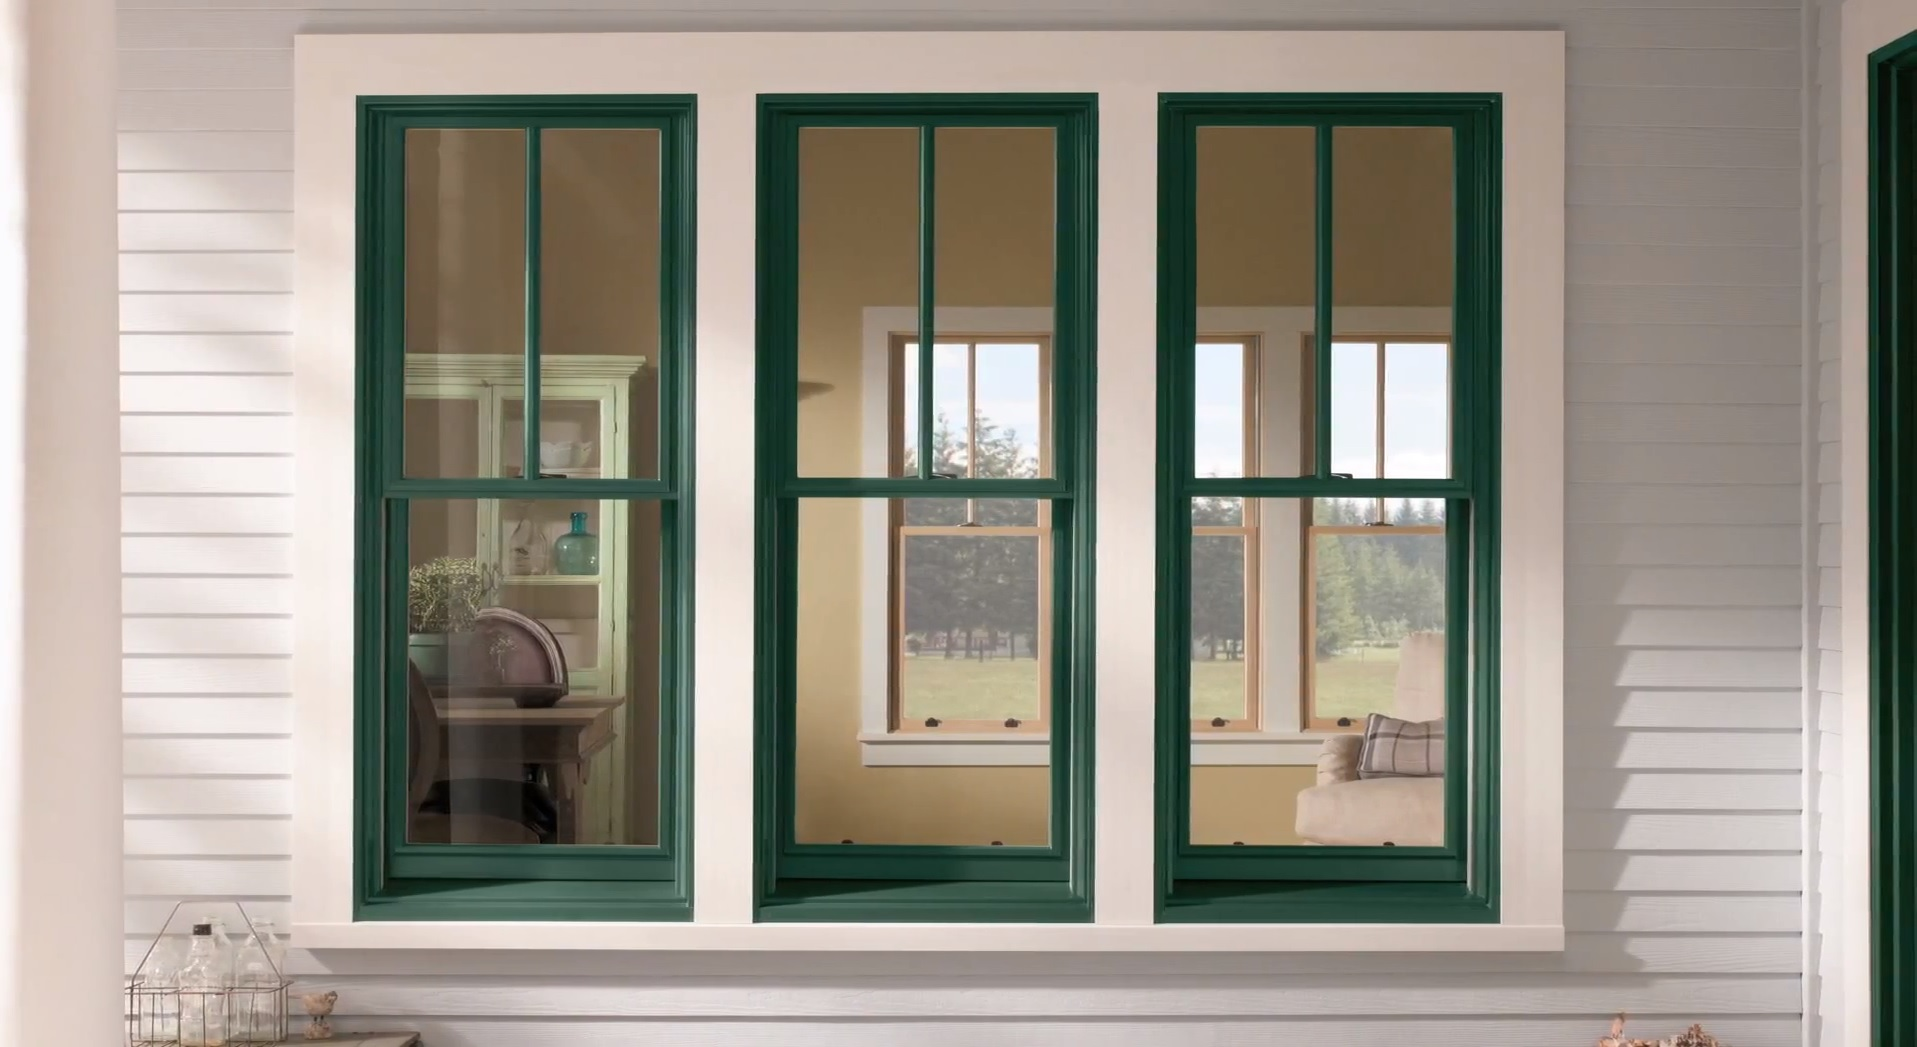windows: (356, 95, 1493, 917)
